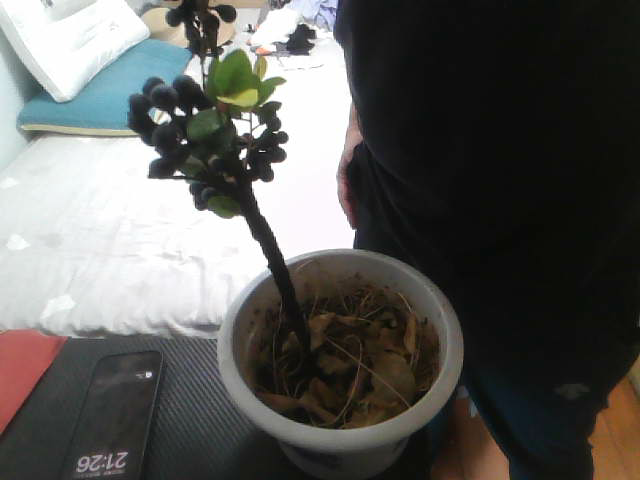blueberry: (142, 5, 175, 39), (202, 5, 231, 38), (151, 120, 184, 148), (198, 6, 224, 36), (182, 151, 207, 174)
